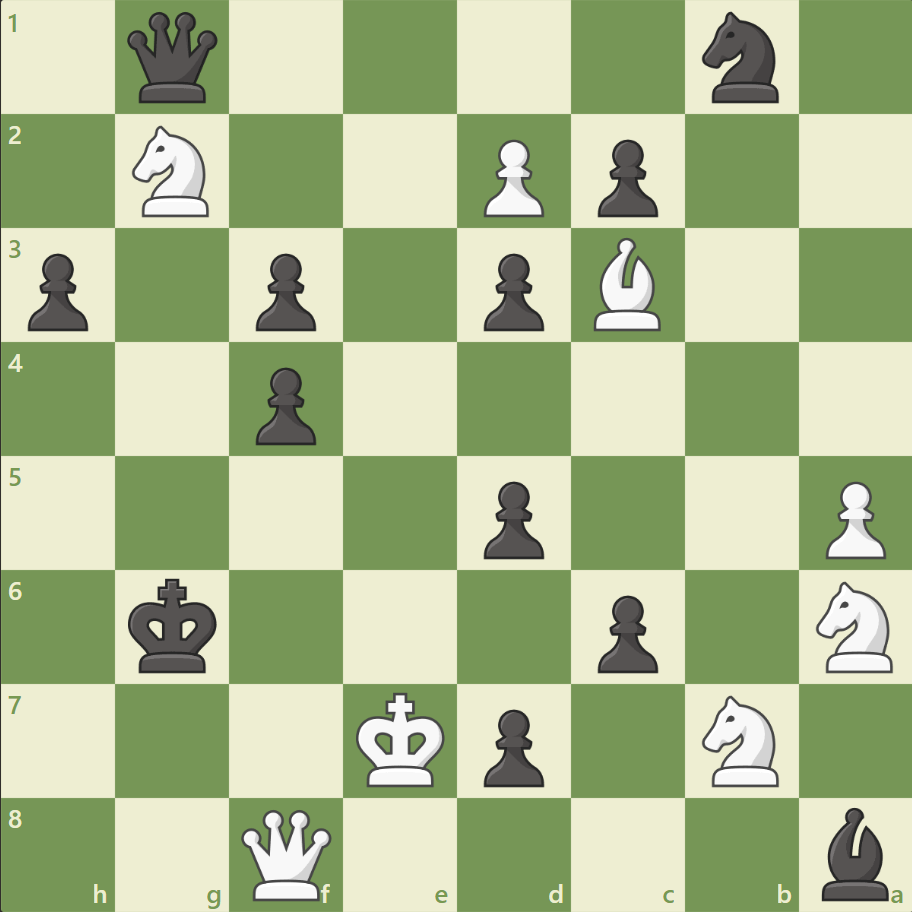B: (585, 233, 669, 336)
K: (351, 685, 451, 793)
N: (124, 121, 222, 223), (692, 688, 789, 791), (806, 575, 903, 677)
P: (474, 132, 549, 223), (815, 473, 889, 564)
Q: (237, 804, 336, 903)
b: (812, 801, 896, 904)
k: (124, 571, 224, 679)
n: (692, 7, 789, 110)
p: (474, 700, 549, 791), (474, 473, 549, 564), (247, 359, 322, 450), (474, 246, 549, 337), (247, 246, 322, 337), (20, 246, 95, 337), (588, 586, 662, 677), (588, 132, 662, 223)
q: (124, 9, 223, 108)
